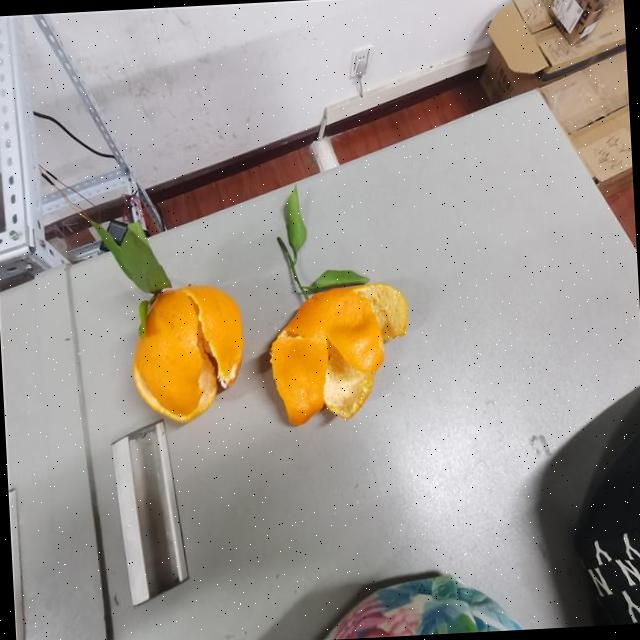orange-peel: (266, 280, 414, 428), (127, 280, 248, 426)
